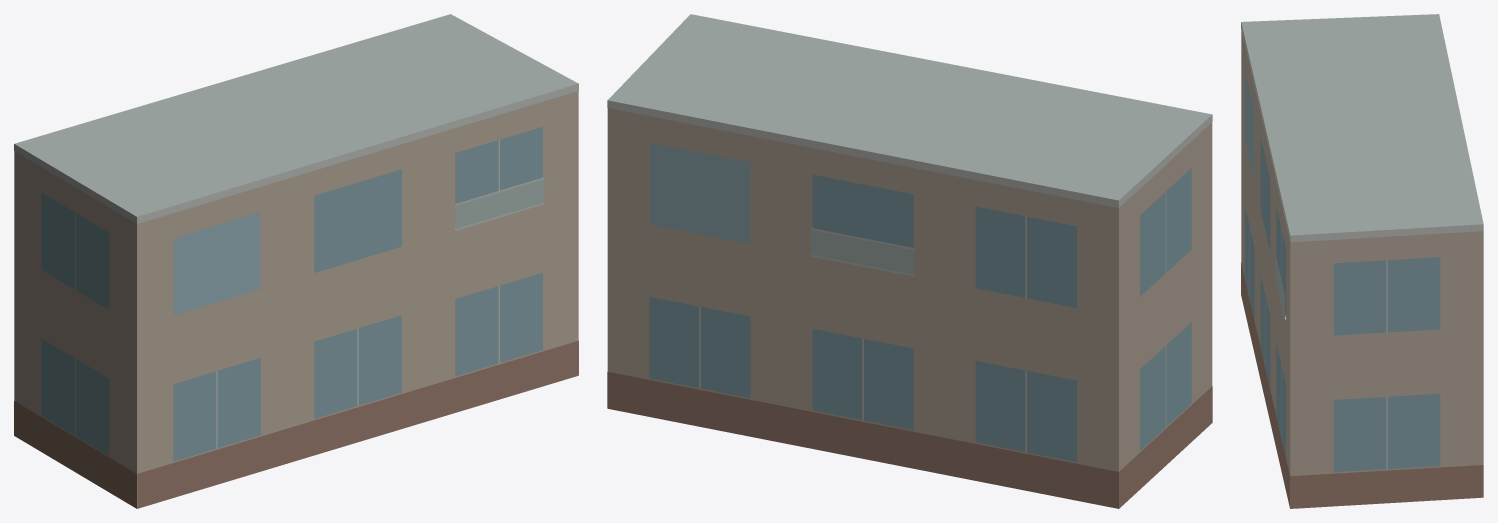
File: survey-upis-32704716.glb
3 renders of one model, left to right at view 1: azimuth 30°, elevation 25°; view 2: azimuth 150°, elevation 25°; view 3: azimuth 270°, elevation 25°, orthographic. The views are drawn at different scales.
Visible parts, largest first — view 1: survey-upis-32704716.tmp; view 2: survey-upis-32704716.tmp; view 3: survey-upis-32704716.tmp.
Part boxes in pixels (box(x1,y1,x2,y2)): survey-upis-32704716.tmp: box(14, 14, 578, 508); survey-upis-32704716.tmp: box(607, 14, 1212, 508); survey-upis-32704716.tmp: box(1241, 14, 1483, 508).
Size of the model in its own units: 17.23 by 9.9 by 7.97.
